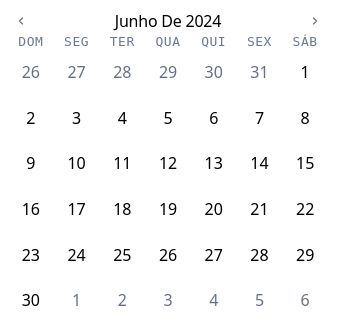
<Calendar /> › navigates to the previous and next month via the nav buttons
Click the button named "Próximo mês". click: (315,21)
box: [302, 8, 328, 34]
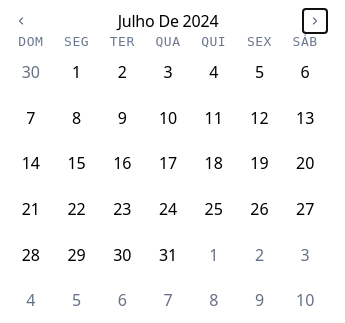
Result: the heading "julho de 2024" is shown at [118, 10, 218, 32]
Click the button named "Mês anterior". click: (21,21)
box: [8, 8, 34, 34]
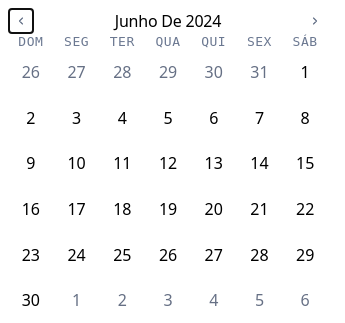
Click the button named "Mês anterior". click: (21,21)
box: [8, 8, 34, 34]
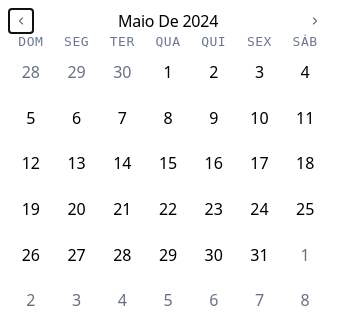
Result: the heading "maio de 2024" is shown at [118, 10, 218, 32]
